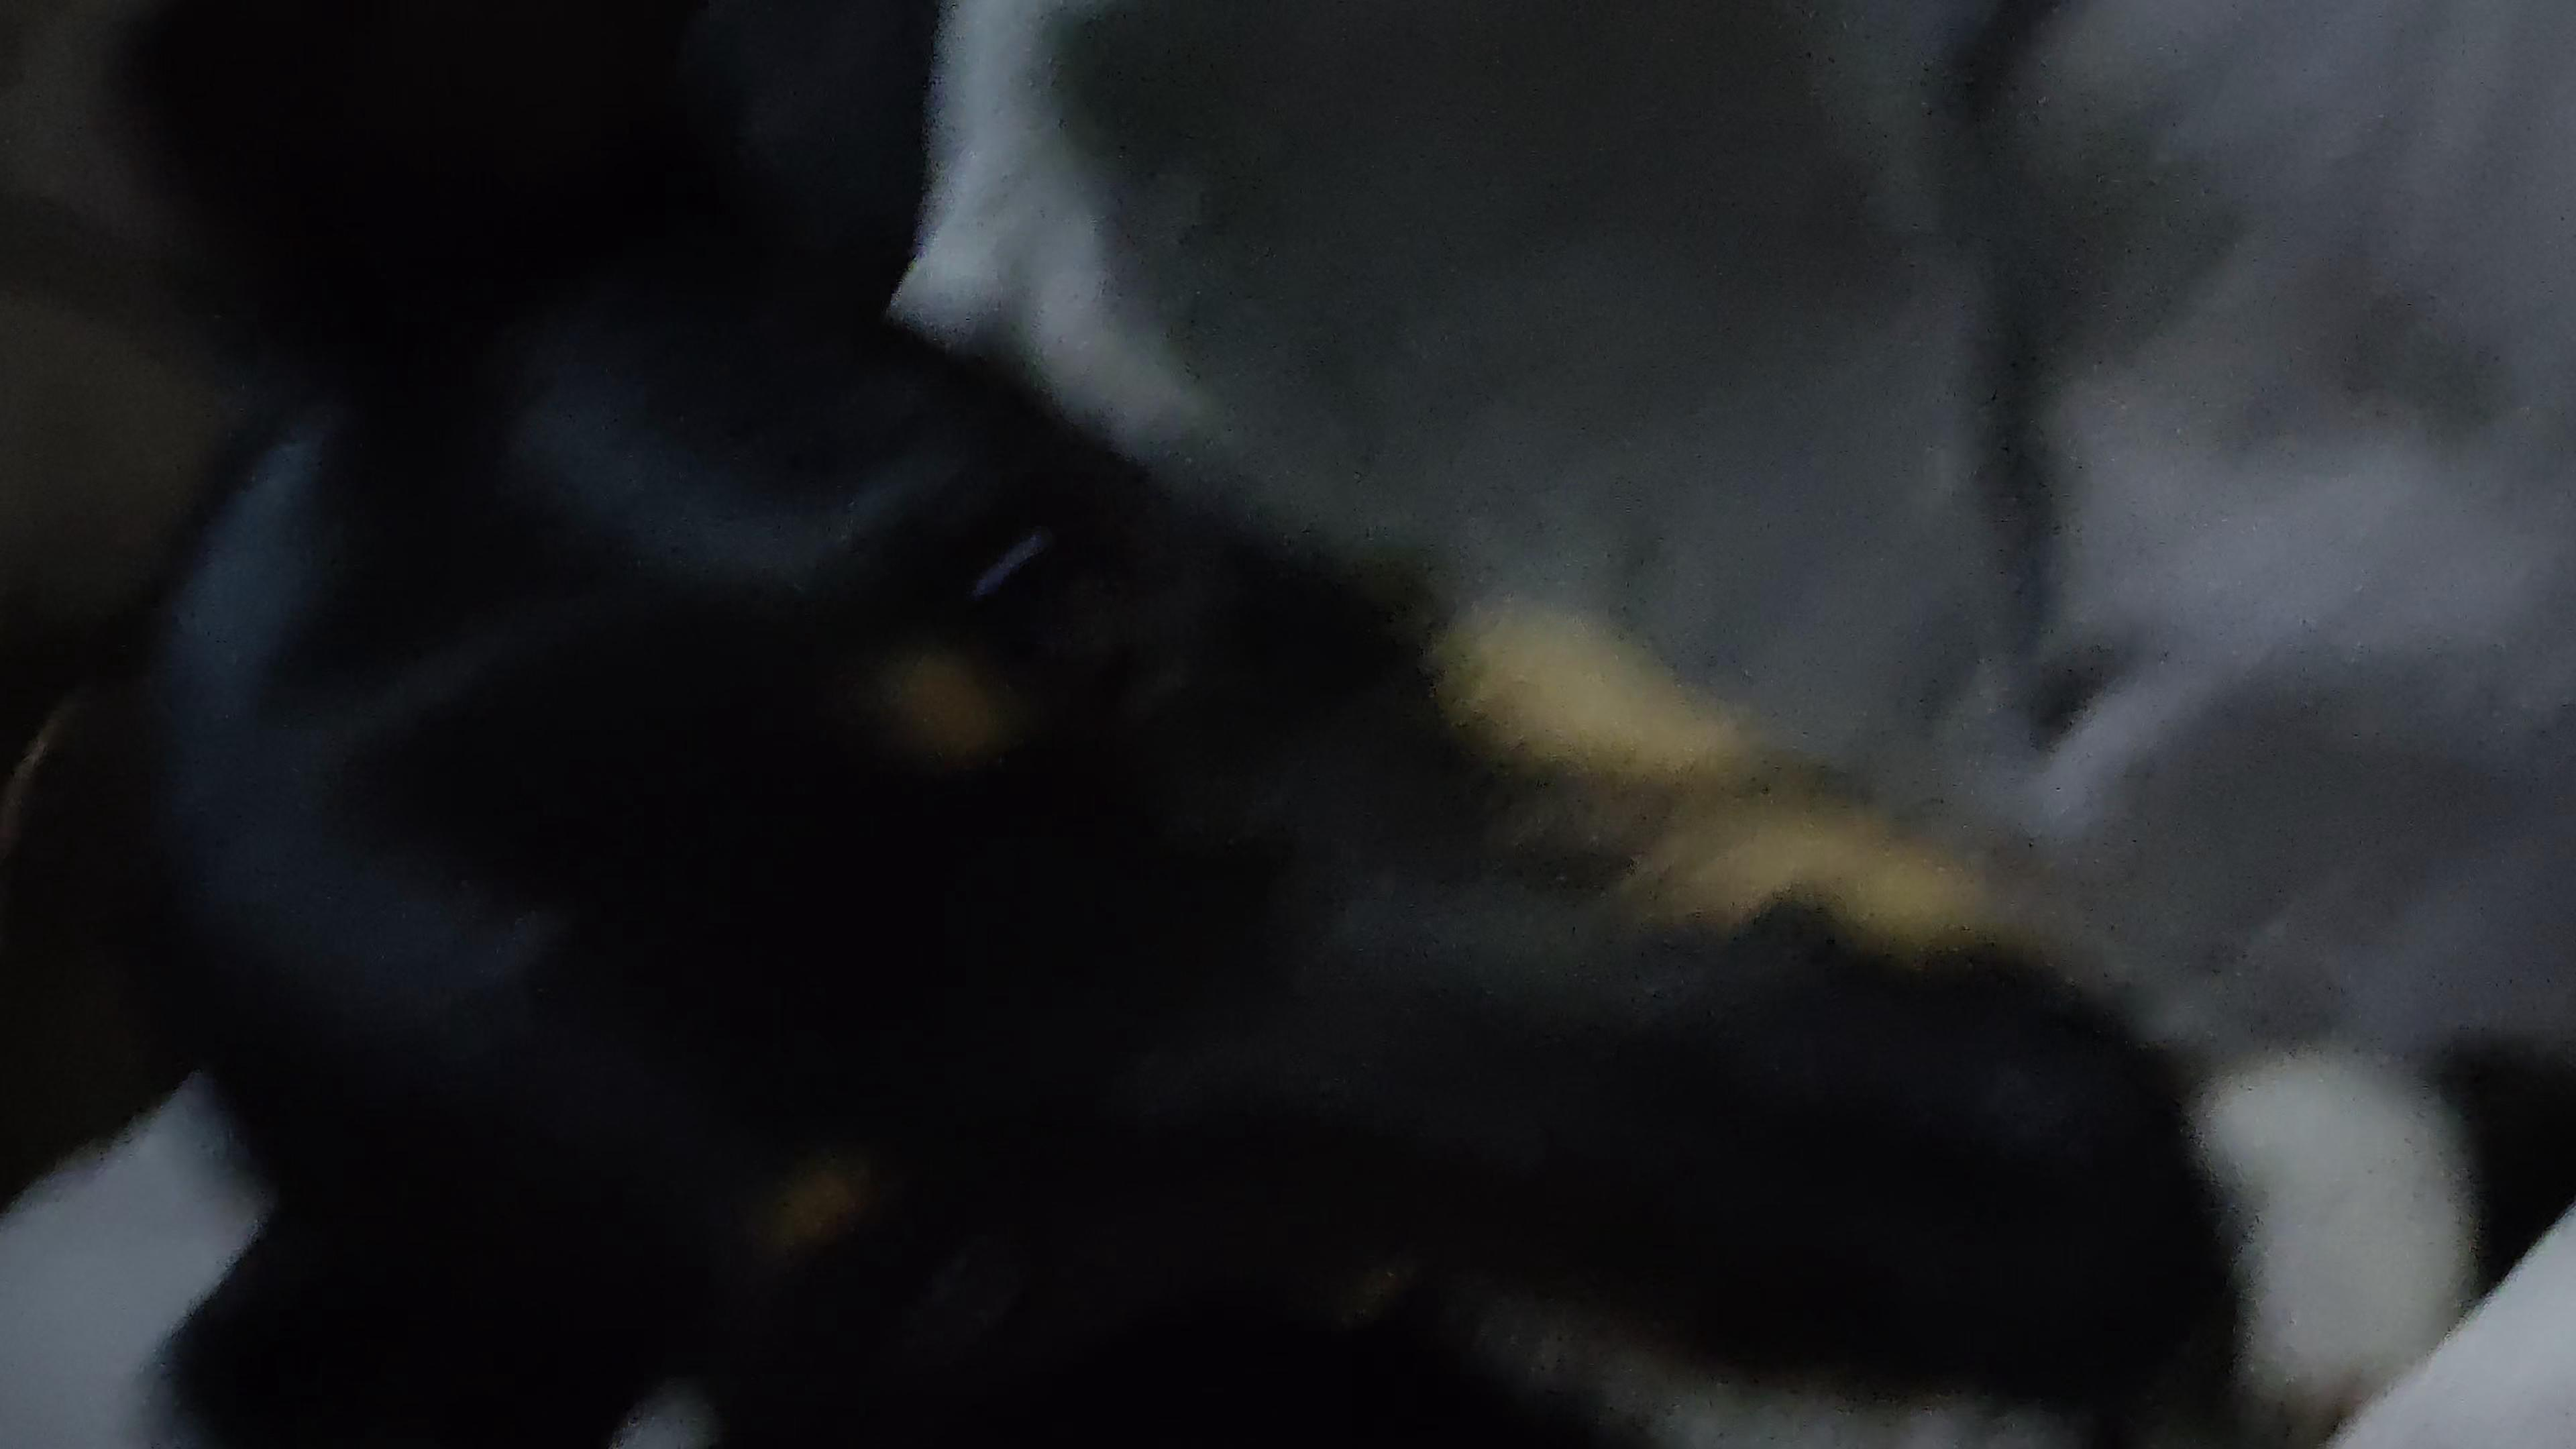Dog: (103, 0, 2576, 1449)
